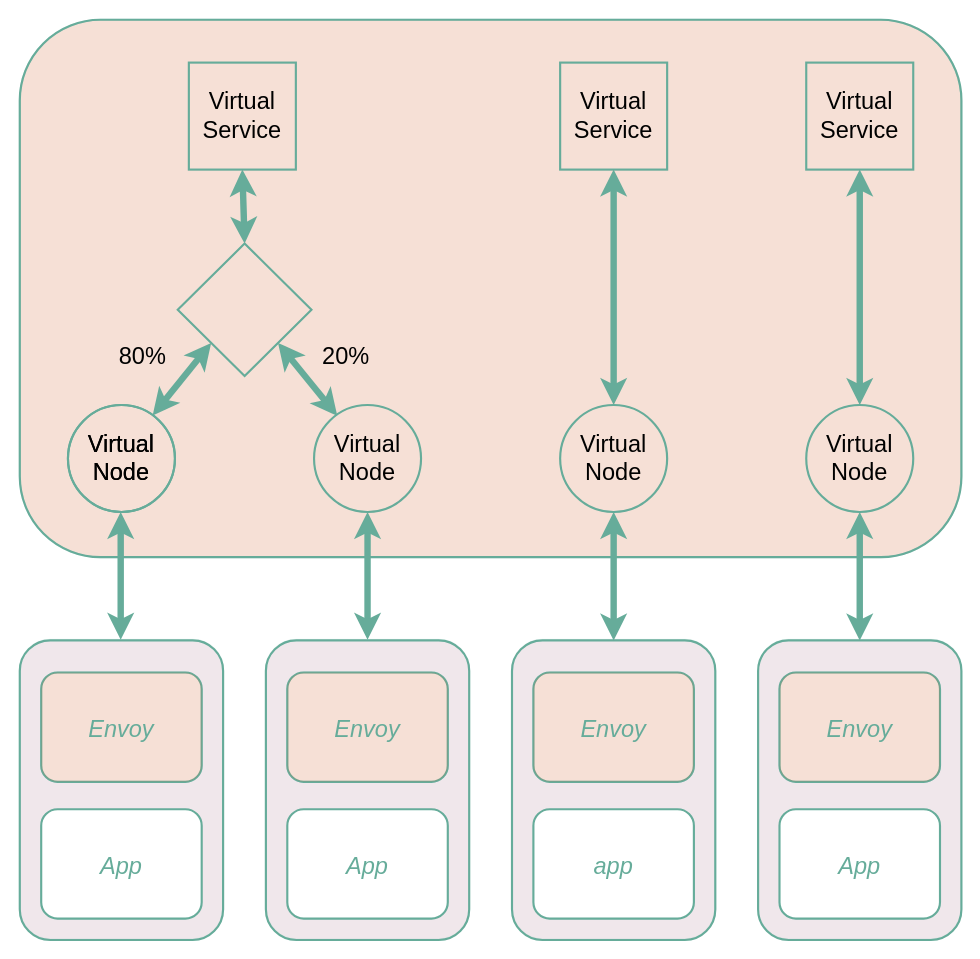
Image size: 980x959. Some labels were removed from this diagram. Here are the shapes that lost their labels. From the top down, the centre of each, then its label:
the point at 490,288: App Mesh
the point at 244,309: virtual Router
